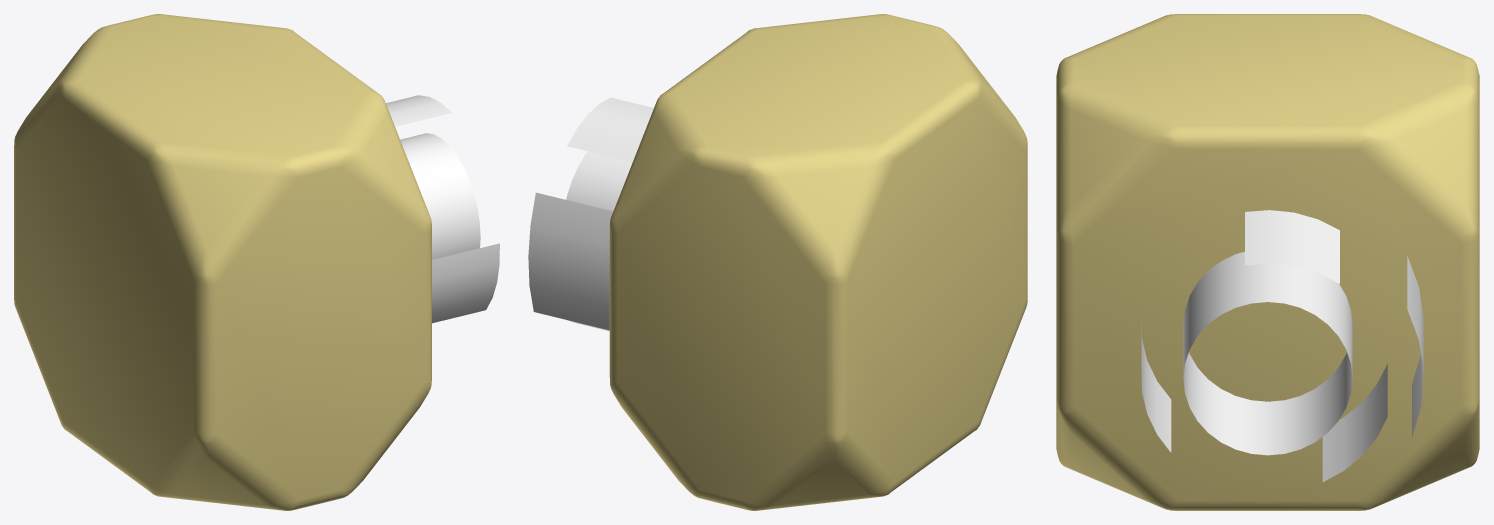
Rendered from welder_beam_source.glb.
3 renders of one model, left to right at view 1: azimuth 30°, elevation 25°; view 2: azimuth 150°, elevation 25°; view 3: azimuth 270°, elevation 25°, orthographic. The views are drawn at different scales.
Visible parts, largest first — view 1: welding_beam_source; view 2: welding_beam_source; view 3: welding_beam_source.
Boxes of the visible parts, <box> form: welding_beam_source: <box>14,14,499,510</box>; welding_beam_source: <box>528,14,1027,510</box>; welding_beam_source: <box>1056,14,1479,510</box>.
Size of the model in its own units: 1 by 1 by 1.
